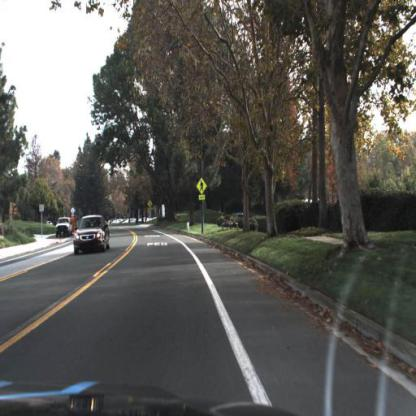car: (74, 213, 112, 254), (57, 216, 74, 237)
